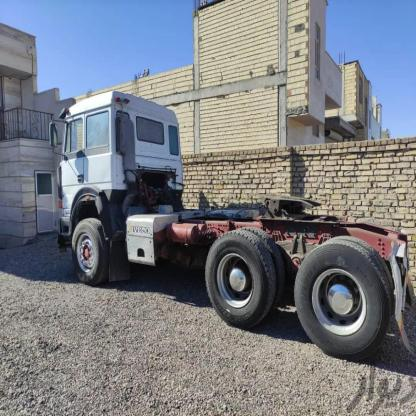Truck: (58, 86, 414, 365)
